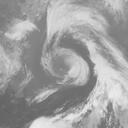cyclone: (41, 47, 90, 87)
